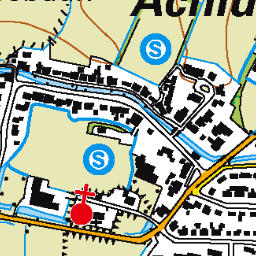church: (69, 182, 98, 227)
